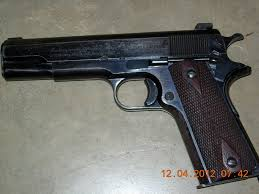gun: (1, 21, 259, 187)
